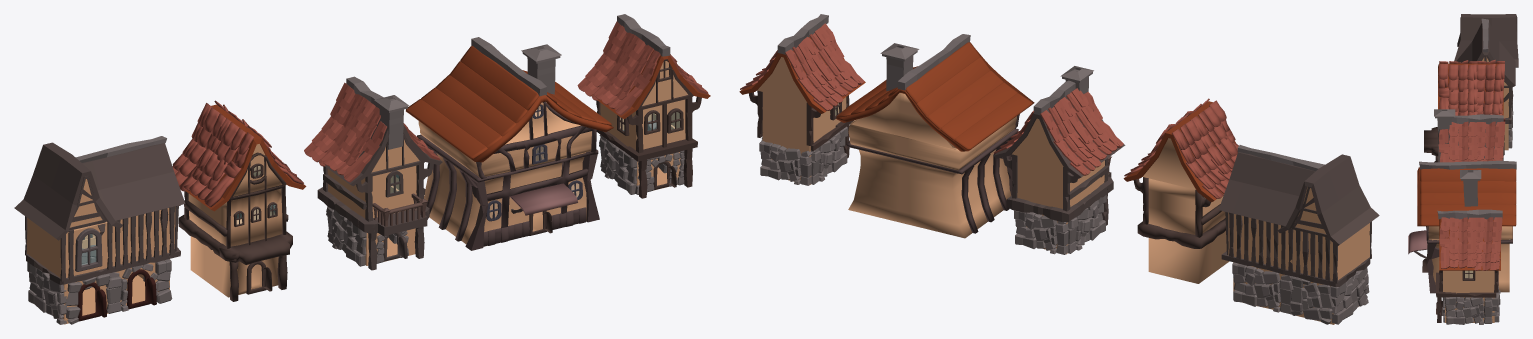
File: maisons (source).glb
3 renders of one model, left to right at view 1: azimuth 30°, elevation 25°; view 2: azimuth 150°, elevation 25°; view 3: azimuth 270°, elevation 25°, orthographic. The views are drawn at different scales.
Parts seen in each view (by area): view 1: Roof Woods, Building_5, Building_2, Wood Frame.007, Roof Rocks, Building_1, Roof.006, Roof Rocks.001, Wood Frame, Roof.003, Roof Rocks.002, Wood Frame.001 (+30 smaller); view 2: Building_5, Roof Woods, Building_2, Roof.006, Roof Rocks.001, Roof Rocks, Roof.003, Building_1, Roof Rocks.002, Side Rocks.003, Building_4, Building_3 (+22 smaller); view 3: Roof Woods, Roof Rocks, Roof Rocks.002, Roof Rocks.001, Roof.003, Roof.006, Side Rocks.002, Building_4, Building_5, Roof.007, Wood Frame.002, Chimney.001 (+17 smaller).
Boxes of the visible parts, bbox=[...] form: Roof Woods: bbox=[406, 46, 611, 159]; Building_5: bbox=[418, 102, 591, 246]; Building_2: bbox=[188, 144, 286, 297]; Wood Frame.007: bbox=[417, 101, 598, 241]; Roof Rocks: bbox=[172, 100, 303, 207]; Building_1: bbox=[26, 179, 175, 324]; Roof.006: bbox=[82, 143, 185, 220]; Roof Rocks.001: bbox=[304, 82, 440, 182]; Wood Frame: bbox=[178, 152, 292, 301]; Roof.003: bbox=[14, 142, 122, 240]; Roof Rocks.002: bbox=[577, 21, 708, 115]; Wood Frame.001: bbox=[317, 134, 433, 270]; Building_5: bbox=[848, 93, 1016, 238]; Roof Woods: bbox=[836, 42, 1032, 149]; Building_2: bbox=[1142, 138, 1229, 283]; Roof.006: bbox=[1218, 152, 1315, 226]; Roof Rocks.001: bbox=[994, 88, 1123, 175]; Roof Rocks: bbox=[1124, 98, 1238, 198]; Roof.003: bbox=[1277, 154, 1379, 246]; Building_1: bbox=[1228, 187, 1369, 324]; Roof Rocks.002: bbox=[740, 23, 864, 110]; Side Rocks.003: bbox=[1232, 262, 1334, 324]; Building_4: bbox=[757, 57, 846, 185]; Building_3: bbox=[1012, 118, 1104, 254]; Roof Woods: bbox=[1420, 168, 1516, 226]; Roof Rocks: bbox=[1438, 59, 1504, 115]; Roof Rocks.002: bbox=[1439, 217, 1502, 270]; Roof Rocks.001: bbox=[1438, 118, 1505, 162]; Roof.003: bbox=[1454, 14, 1518, 67]; Roof.006: bbox=[1456, 22, 1515, 87]; Side Rocks.002: bbox=[1445, 297, 1493, 324]; Building_4: bbox=[1443, 270, 1494, 322]; Building_5: bbox=[1428, 226, 1512, 292]; Roof.007: bbox=[1419, 160, 1516, 169]; Wood Frame.002: bbox=[1435, 270, 1498, 322]; Chimney.001: bbox=[1460, 170, 1481, 206].
Size of the model in its own units: 261 by 62.92 by 54.47.
